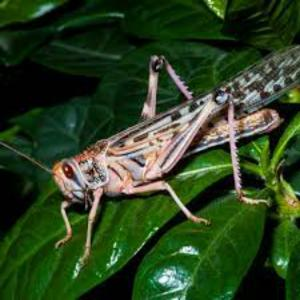locust: (53, 35, 300, 281)
